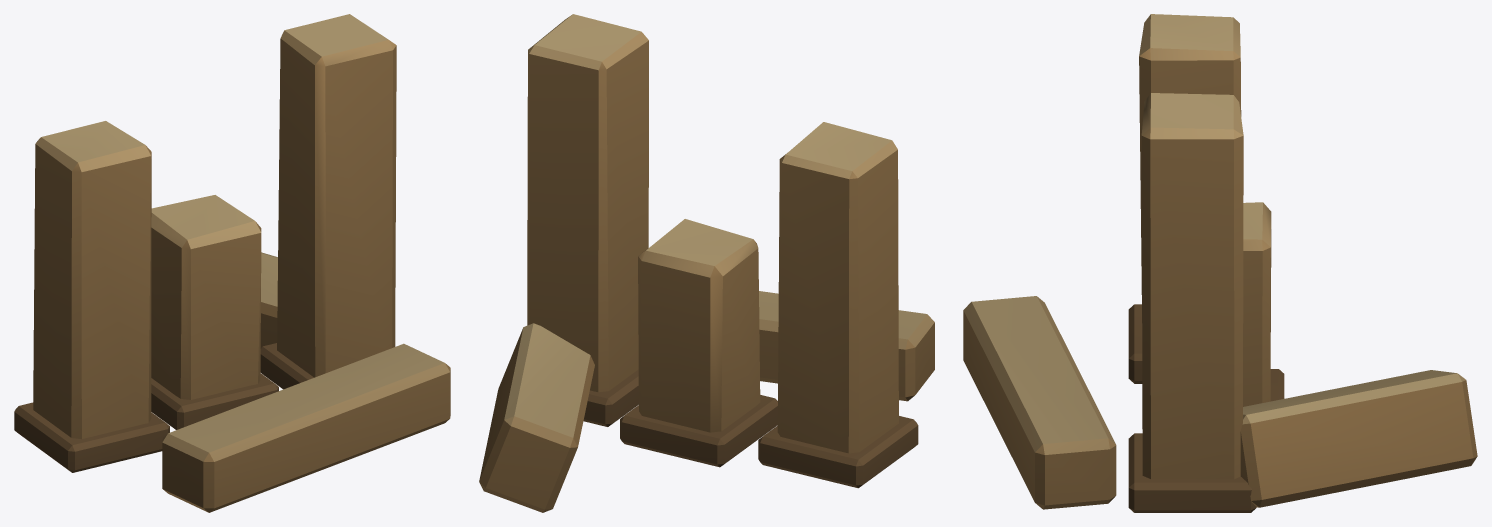
Rendered from desert_ruin_a.glb.
3 renders of one model, left to right at view 1: azimuth 30°, elevation 25°; view 2: azimuth 150°, elevation 25°; view 3: azimuth 270°, elevation 25°, orthographic. The views are drawn at different scales.
Visible parts, largest first — view 1: desert_ruin_a; view 2: desert_ruin_a; view 3: desert_ruin_a.
Boxes of the visible parts, bbox=[...] form: desert_ruin_a: bbox=[14, 14, 450, 512]; desert_ruin_a: bbox=[479, 14, 934, 512]; desert_ruin_a: bbox=[963, 14, 1477, 512].
Bounding box in the file's own units: 1.43 × 1.41 × 1.68.
